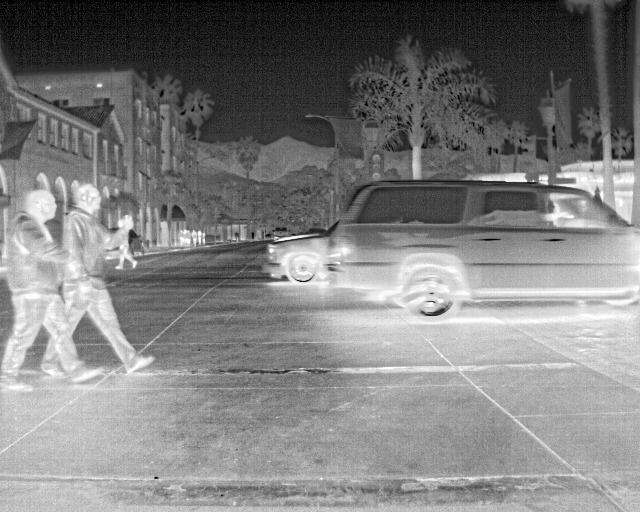bicycle: (325, 177, 635, 321), (261, 221, 339, 286)
empty: (0, 190, 102, 392), (62, 180, 155, 376), (113, 242, 140, 272), (114, 217, 126, 232)
